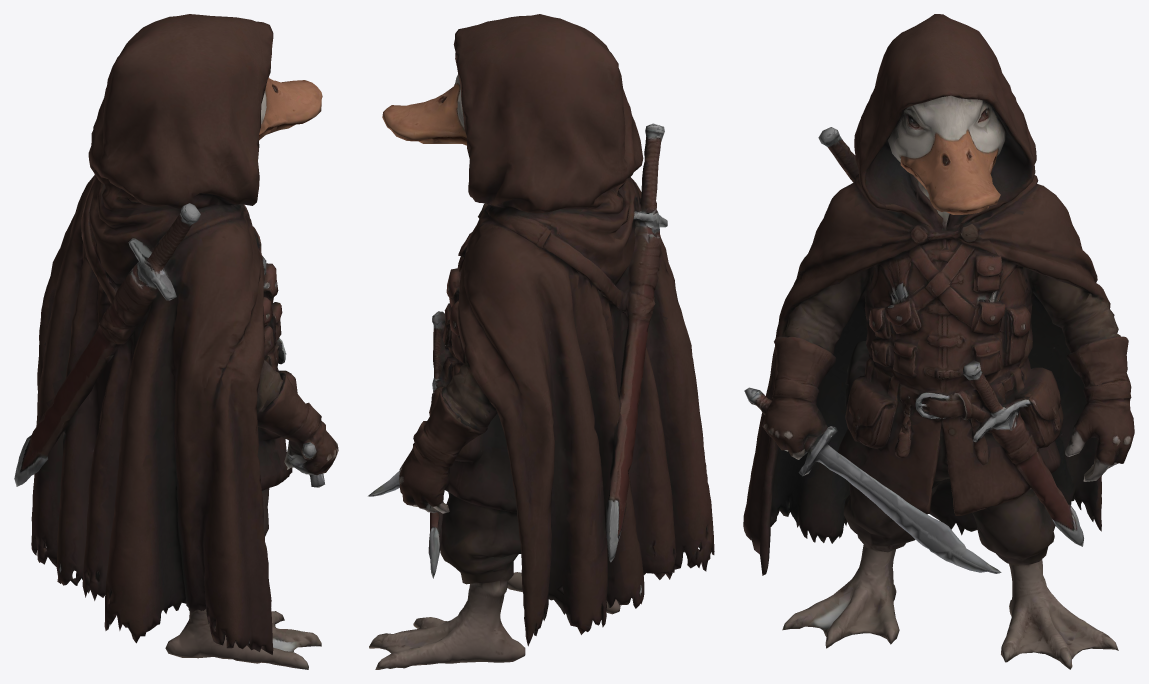
The model's file is svart_nebb_24k.obj.
3 views of the same model, side by side, from view 1: azimuth 30°, elevation 25°; view 2: azimuth 150°, elevation 25°; view 3: azimuth 270°, elevation 25° (orthographic). The views are drawn at different scales.
Bounding box in the file's own units: 0.7604 × 1.65 × 0.9856.
Materials: 1 (1 with a texture image).
